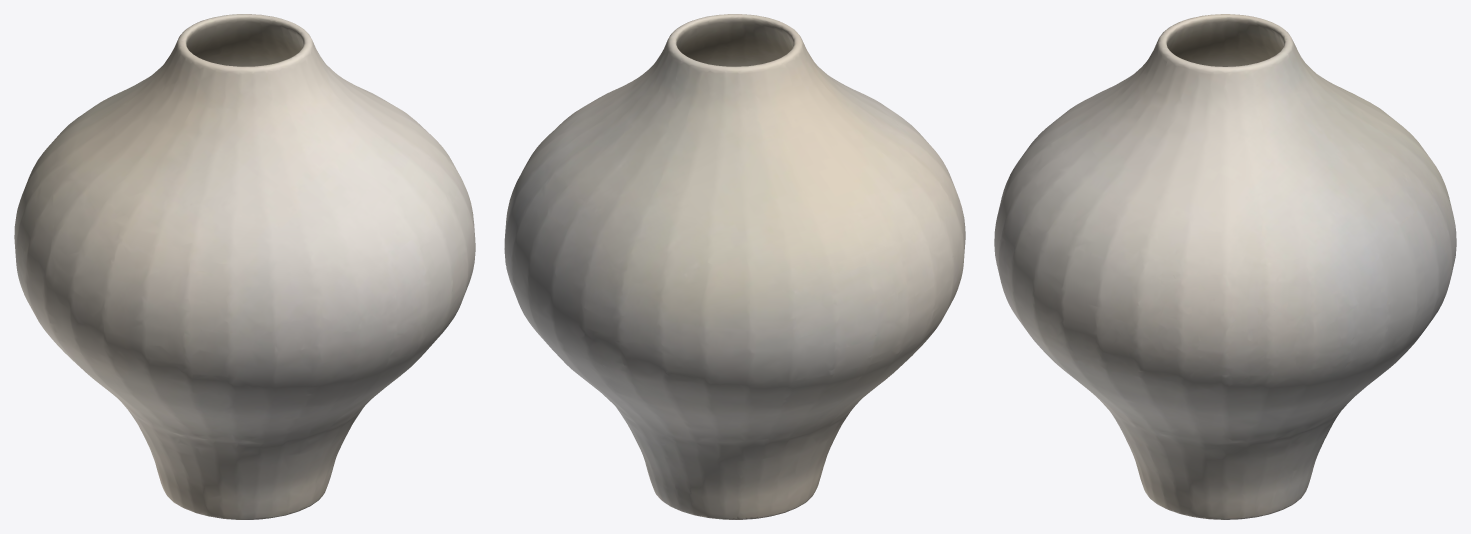
File: niche-vase-matte-organic-web-mesh.glb
3 views of the same model, side by side, from view 1: azimuth 30°, elevation 25°; view 2: azimuth 150°, elevation 25°; view 3: azimuth 270°, elevation 25° (orthographic).
Visible parts, largest first — view 1: world; view 2: world; view 3: world.
Part boxes in pixels (left/top/right/bottom): world: left=14, top=14, right=475, bottom=519; world: left=504, top=14, right=965, bottom=519; world: left=994, top=14, right=1456, bottom=519.
Size of the model in its own units: 0.9367 by 1 by 0.937.
Materials: 1 (1 with a texture image).
